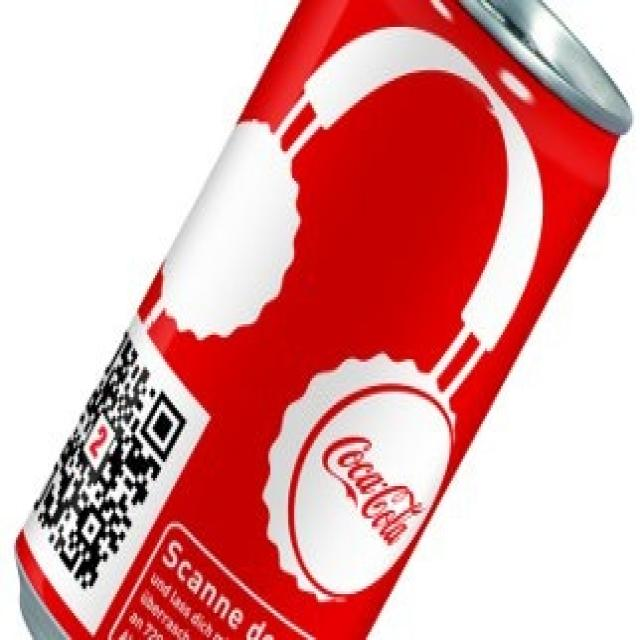cocacola: (16, 4, 578, 640)
